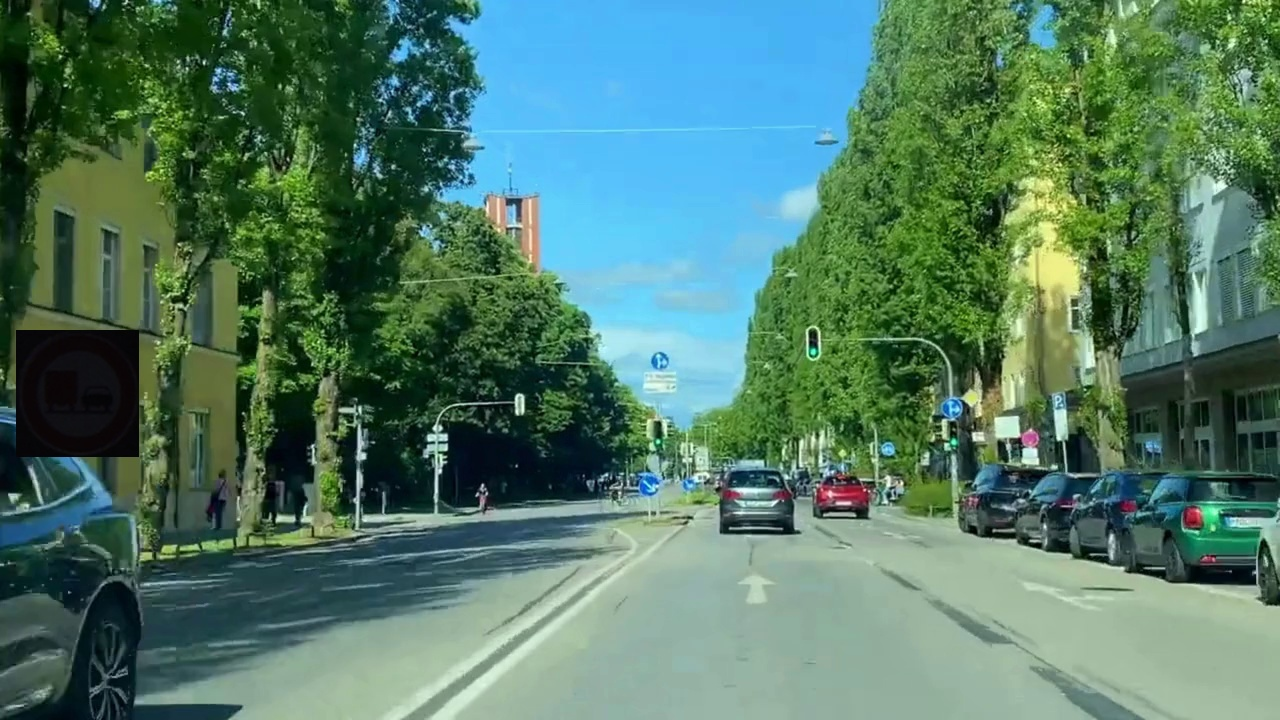No pass >3.5t: (16, 330, 139, 457)
